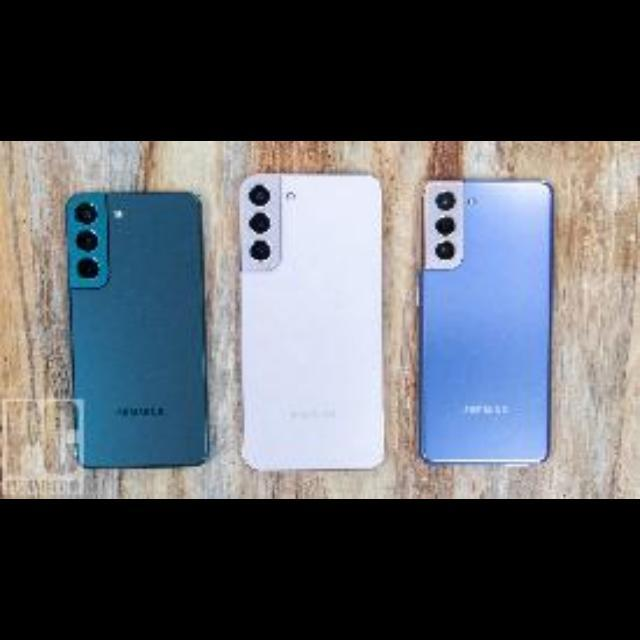Phone: (240, 176, 384, 469), (67, 194, 206, 470), (421, 182, 551, 463)
